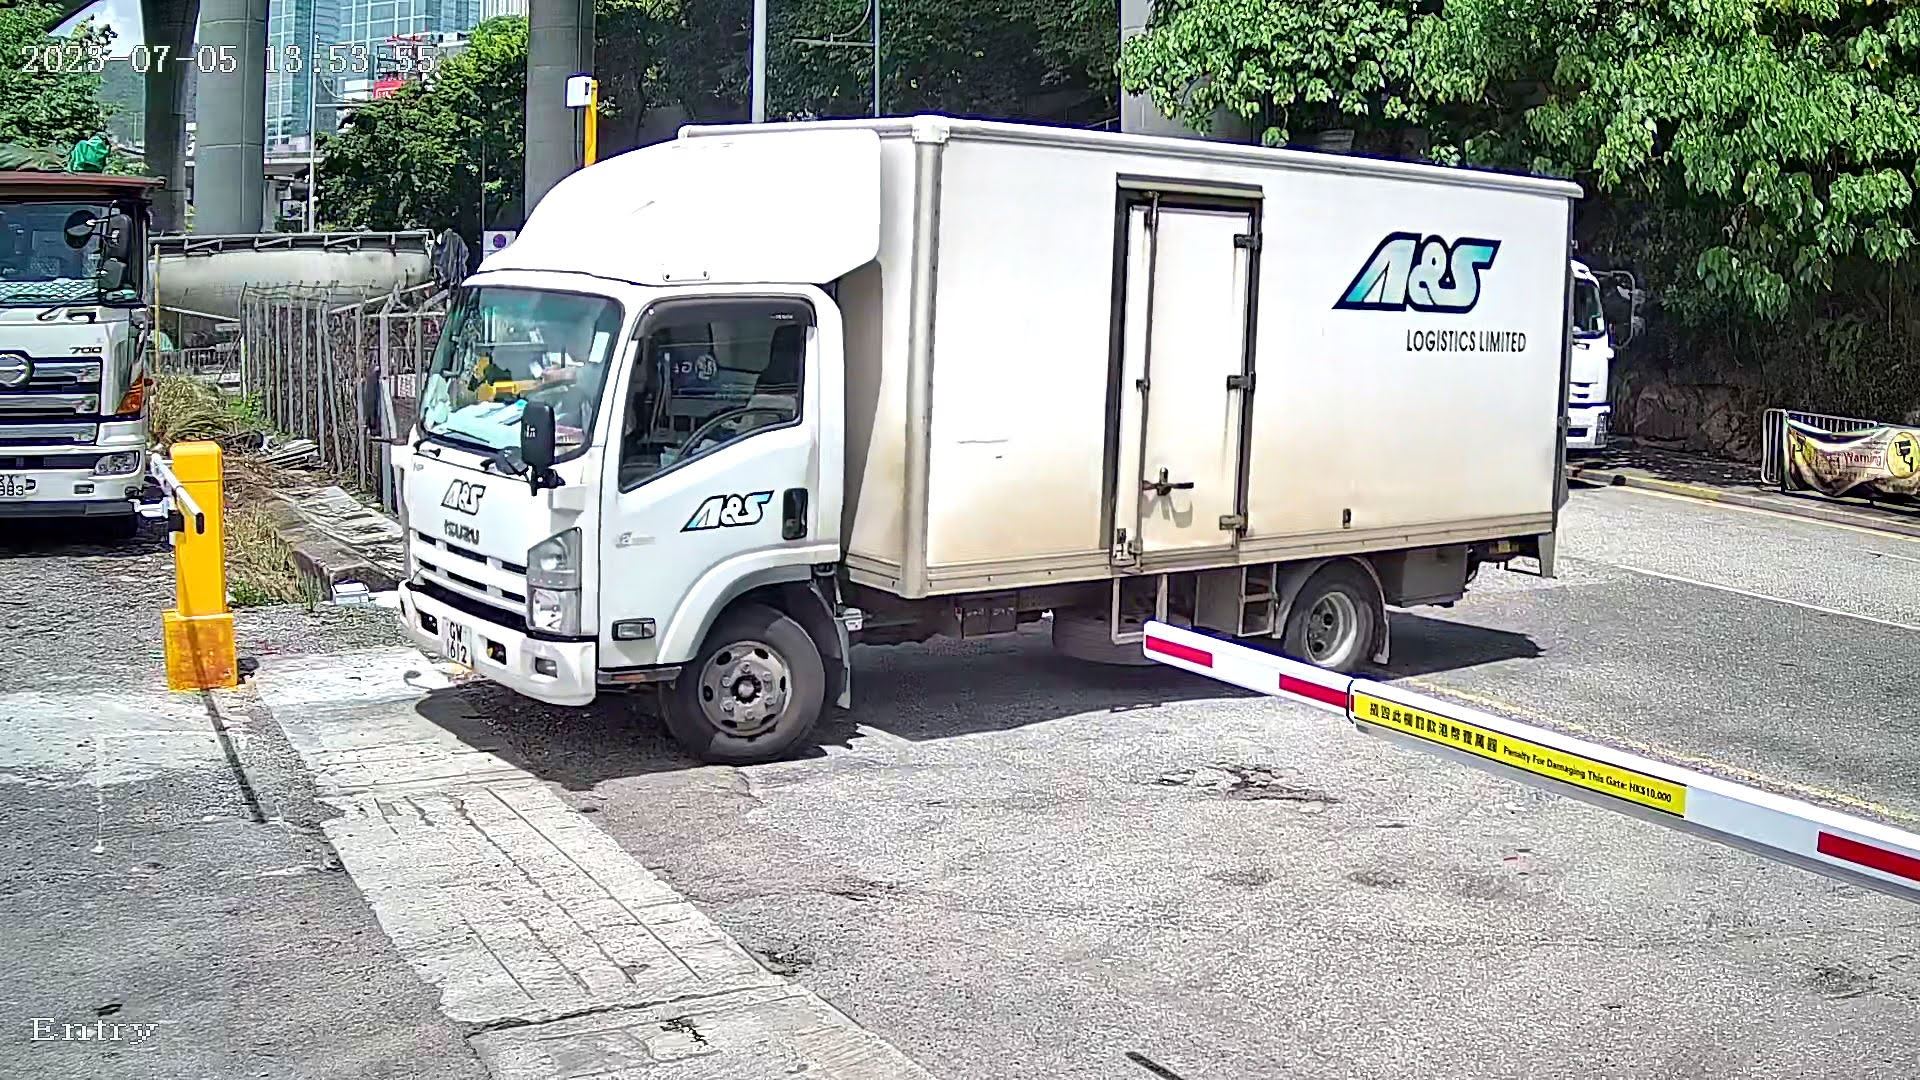truck_small: (388, 96, 1625, 777)
